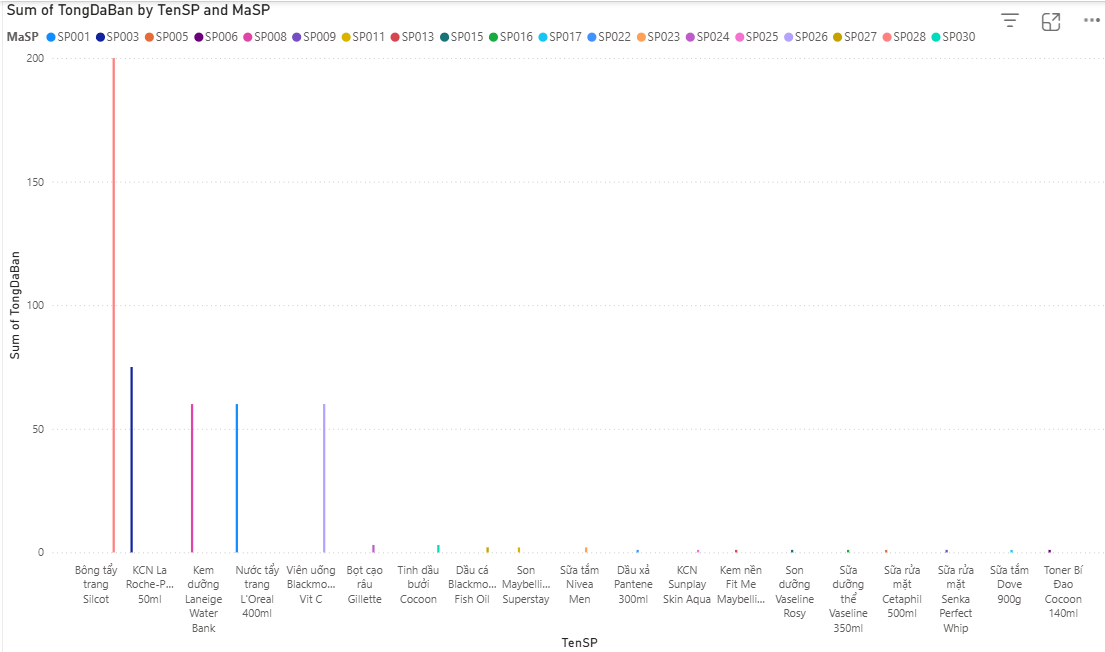

What the dashboard file says about the page in this screenshot:
{"tool":"powerbi","page":{"name":"Page 1","canvas":[1280,720],"ordinal":0},"visuals":[{"type":"clusteredColumnChart","fields":{"Category":["v_Sanpham_Banchay.TenSP"],"Series":["v_Sanpham_Banchay.MaSP"],"Y":["Sum(v_Sanpham_Banchay.TongDaBan)"]},"box":[9.9,0,1224.1,720.6],"z":0}]}

Visuals, with their boxes on the page's 1280x720 design canvas (x1, y1, x2, y2). These are canvas units, not pixel positions in the 1105x652 screenshot, which may show the page scaled, cropped or inside an application window:
clusteredColumnChart - v_Sanpham_Banchay.TenSP x v_Sanpham_Banchay.MaSP: x1=10, y1=0, x2=1234, y2=721
